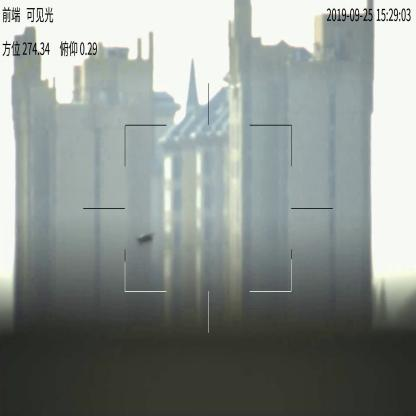uav: (136, 232, 154, 244)
